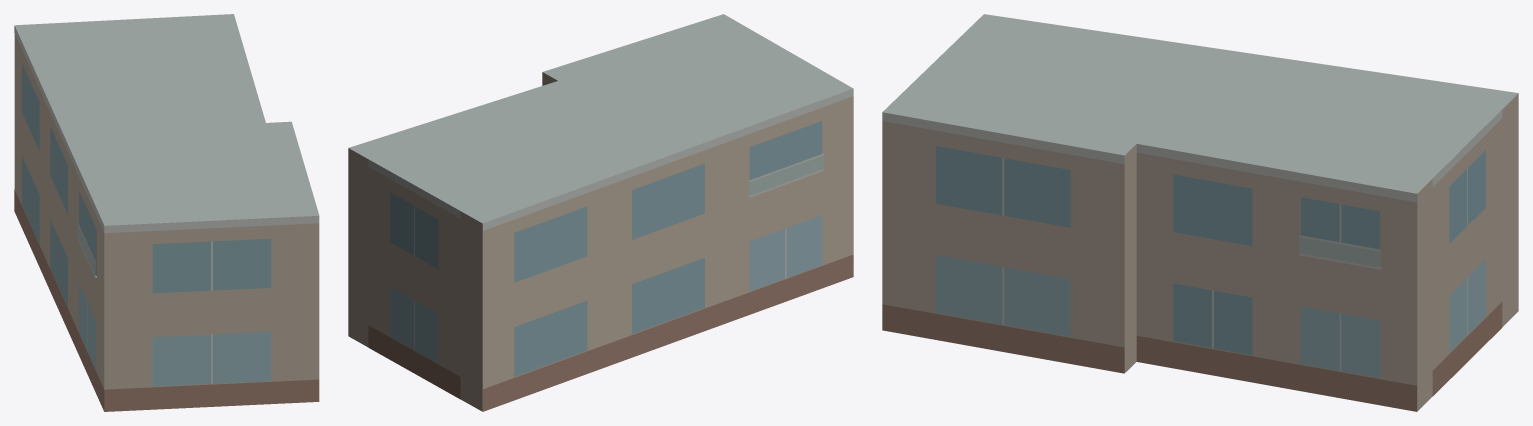
Rendered from survey-upis-32935606.glb.
The picture shows the model from 3 angles, left to right: view 1: azimuth 30°, elevation 25°; view 2: azimuth 150°, elevation 25°; view 3: azimuth 270°, elevation 25°; orthographic projection. The views are drawn at different scales.
Visible parts, largest first — view 1: survey-upis-32935606.tmp; view 2: survey-upis-32935606.tmp; view 3: survey-upis-32935606.tmp.
Part boxes in pixels (box(x1,y1,x2,y2)): survey-upis-32935606.tmp: box(14, 14, 319, 411); survey-upis-32935606.tmp: box(348, 14, 853, 411); survey-upis-32935606.tmp: box(882, 14, 1518, 411).
Size of the model in its own units: 10.8 by 6.1 by 16.15.
